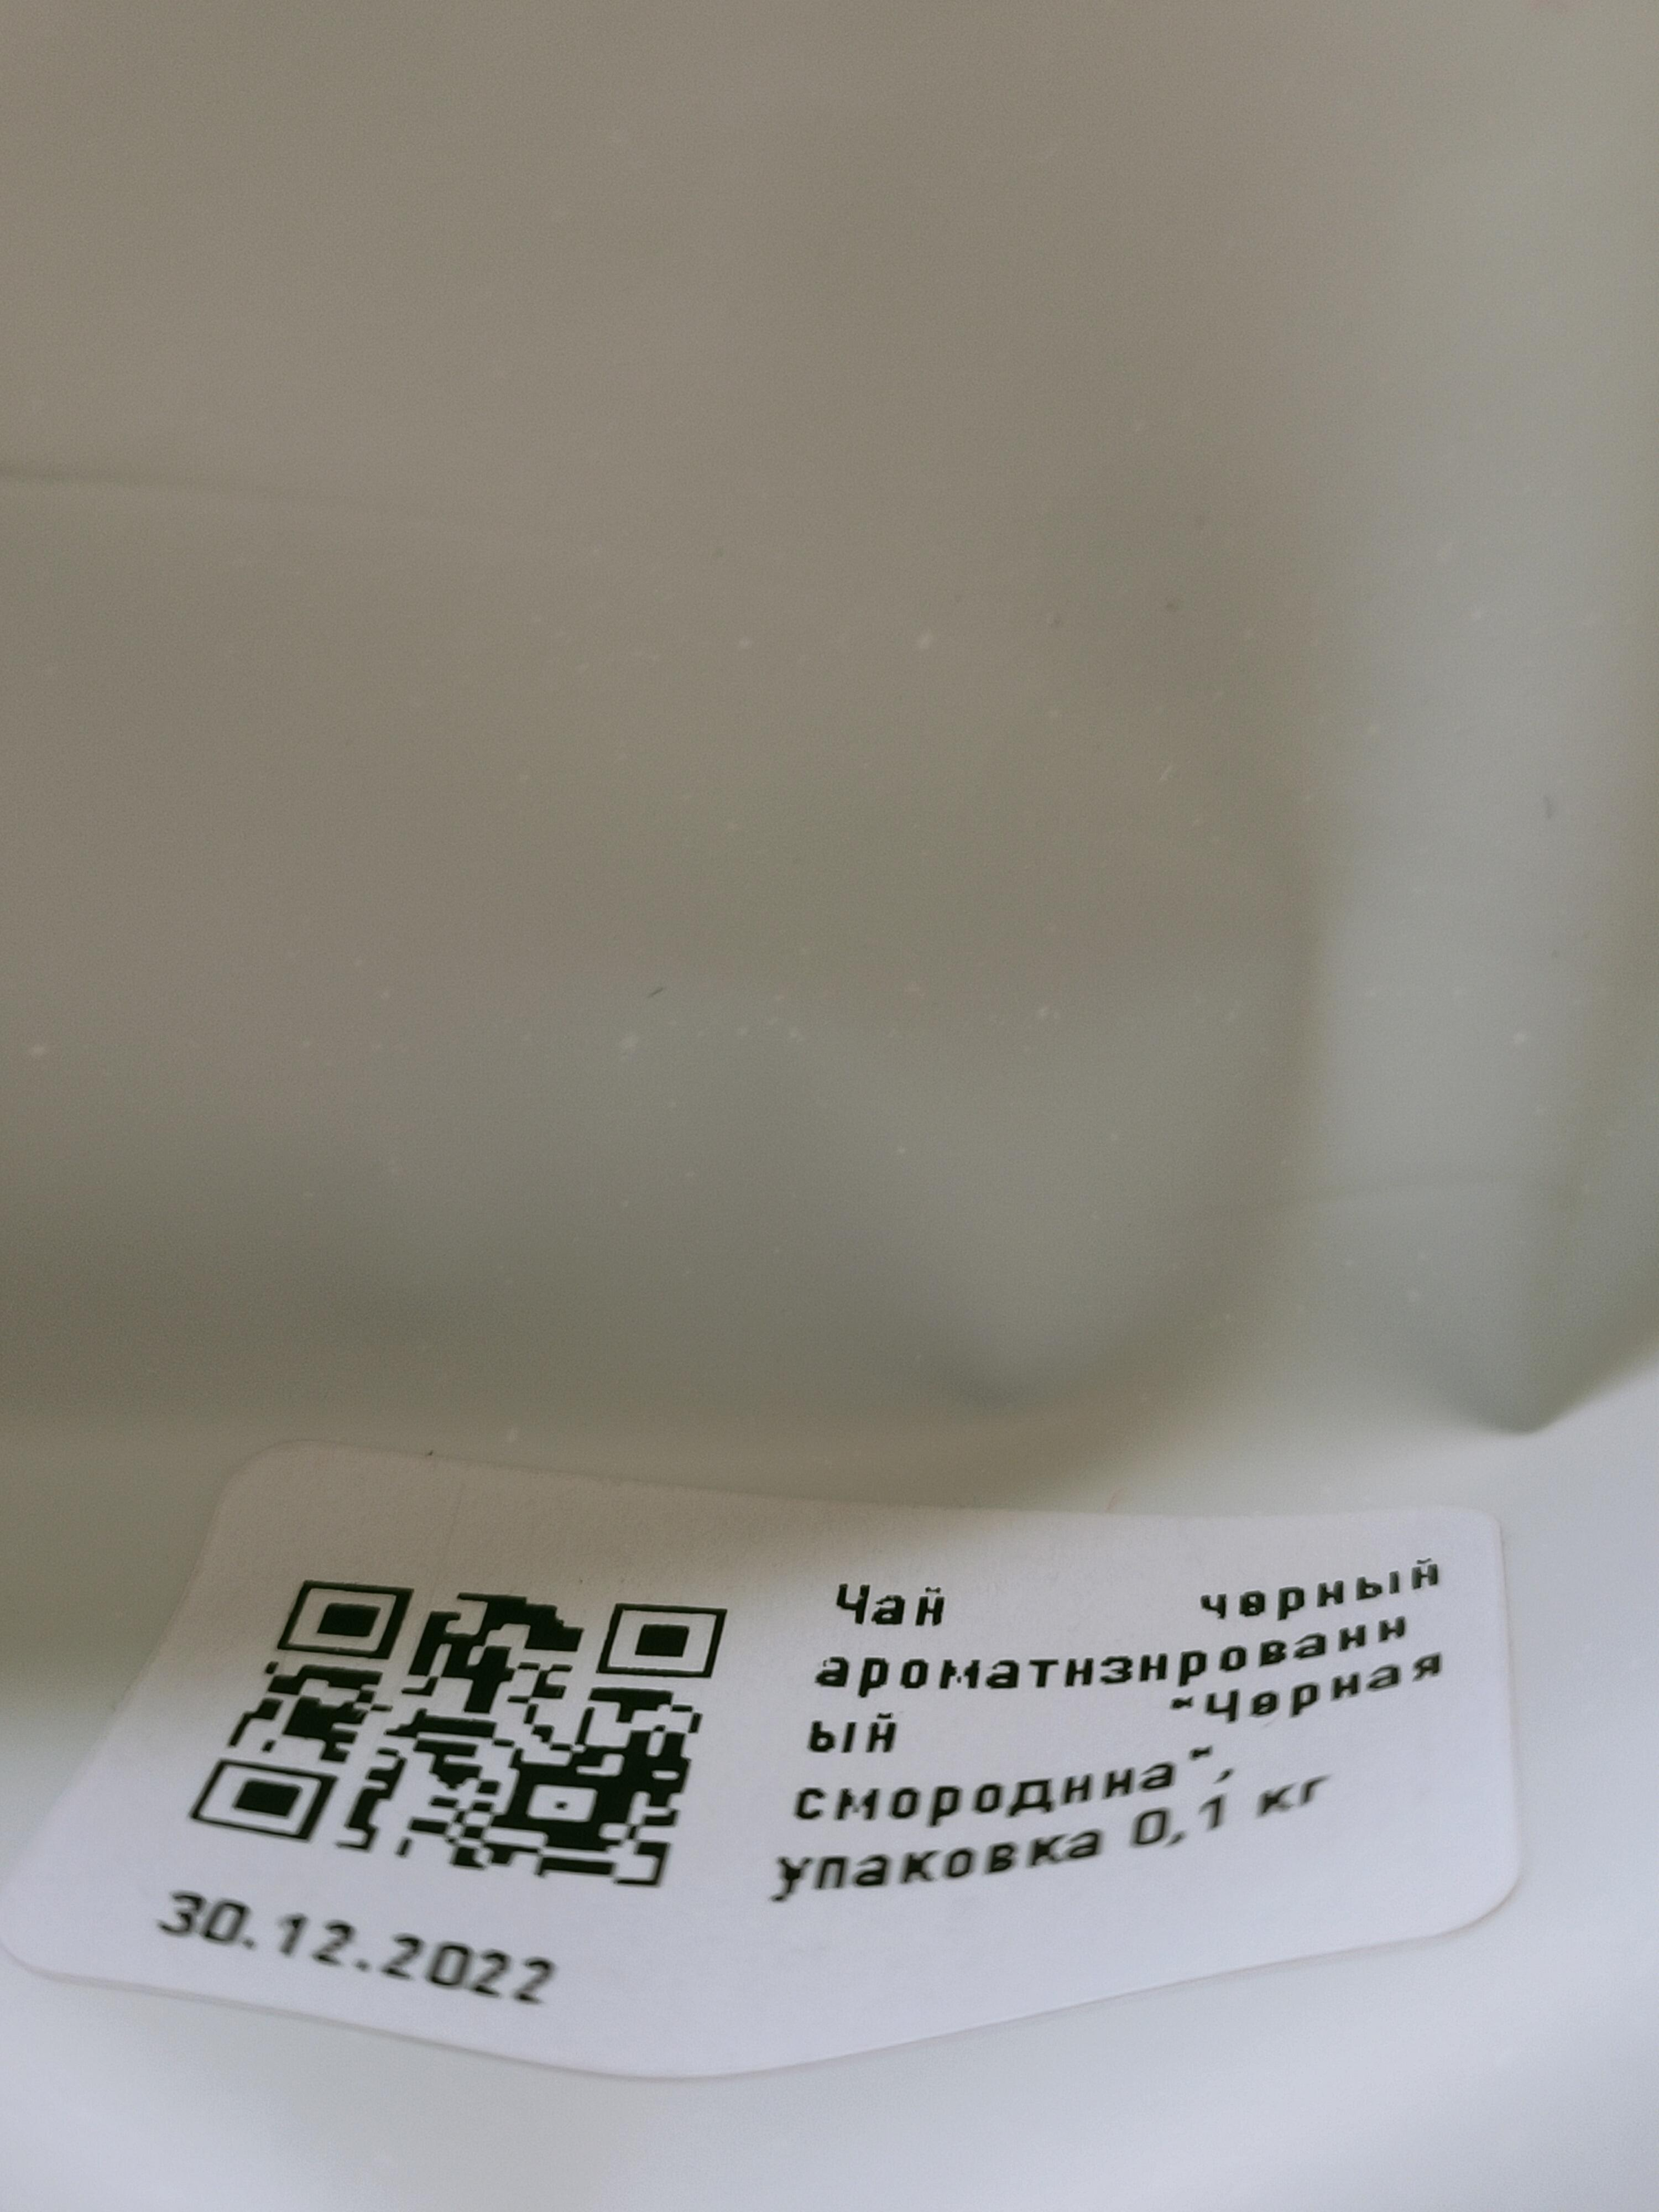qrcode: (188, 1571, 734, 1892)
